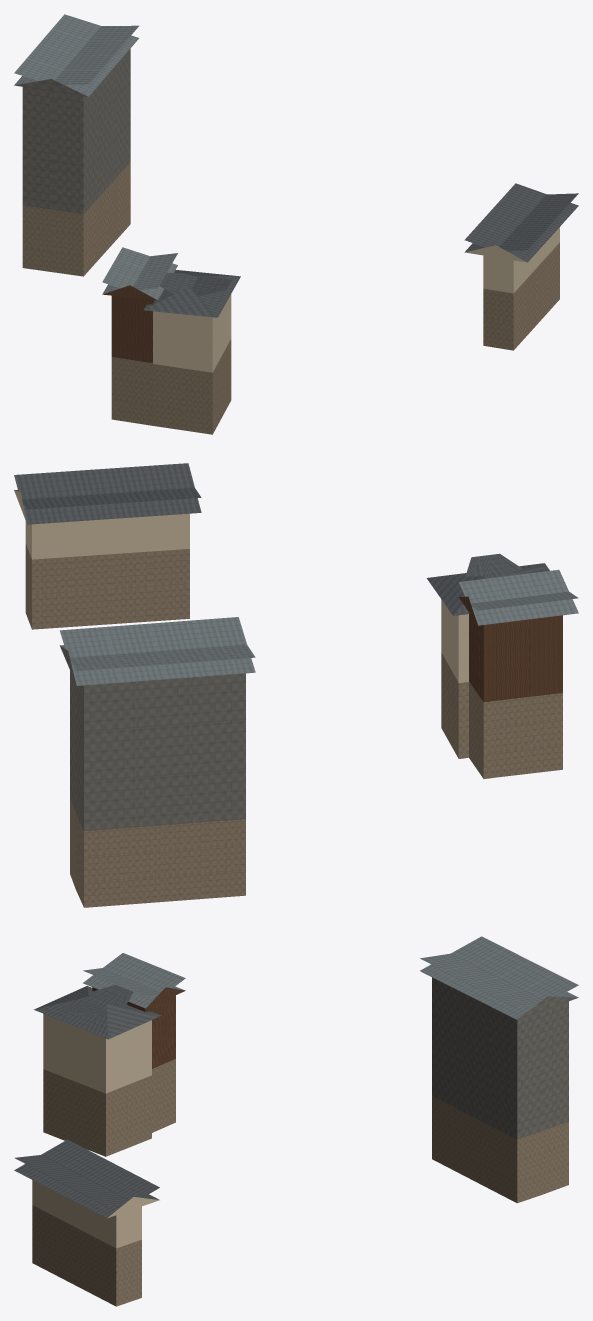
Rendered from bld_c15_25_399.gltf.
3 views of the same model, one above another, from view 1: azimuth 30°, elevation 25°; view 2: azimuth 150°, elevation 25°; view 3: azimuth 270°, elevation 25° (orthographic). The views are drawn at different scales.
Visible parts, largest first — view 1: bld_c15_25_399; view 2: bld_c15_25_399; view 3: bld_c15_25_399.
Part boxes in pixels (x1,y1,x2,y2): bld_c15_25_399: [14, 14, 578, 434]; bld_c15_25_399: [14, 463, 578, 907]; bld_c15_25_399: [14, 936, 578, 1306].
Size of the model in its own units: 39.95 by 16.3 by 40.89.
9 materials, 9 textured.
